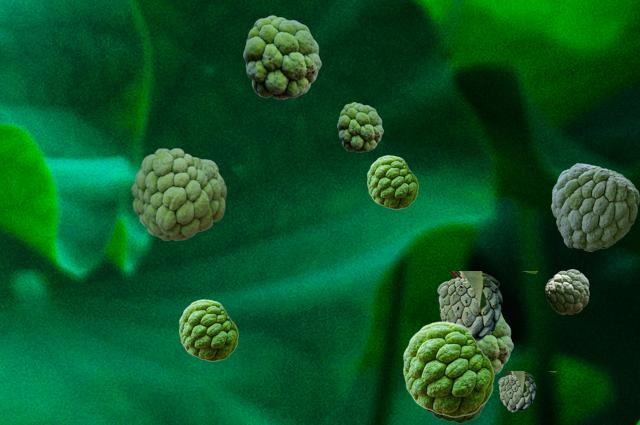atis: (131, 148, 225, 239), (403, 321, 493, 416), (551, 163, 638, 250), (437, 271, 536, 341), (243, 15, 320, 98), (179, 299, 237, 360), (367, 155, 417, 208), (498, 371, 555, 411), (337, 102, 382, 151), (477, 313, 512, 375), (545, 269, 588, 313), (425, 404, 485, 422)
